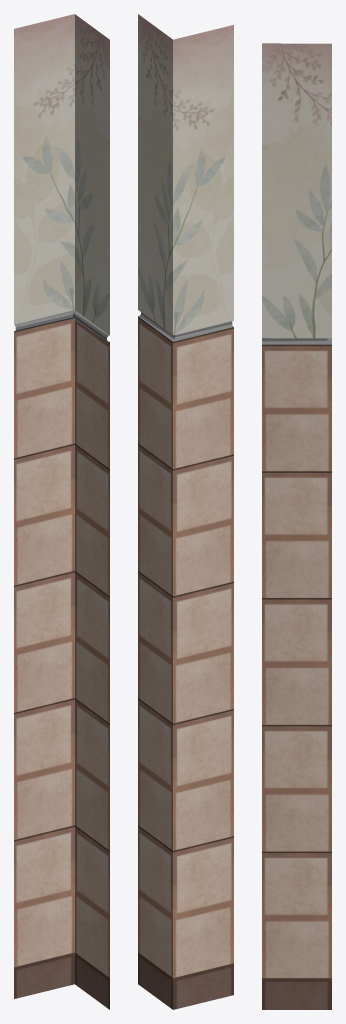
Rendered from MT_BR_ClosedCorner_Small.fbx.
The picture shows the model from 3 angles, left to right: view 1: azimuth 30°, elevation 25°; view 2: azimuth 210°, elevation 25°; view 3: azimuth 270°, elevation 25°; orthographic projection.
Visible parts, largest first — view 1: MT_BR_ClosedCorner_Small; view 2: MT_BR_ClosedCorner_Small; view 3: MT_BR_ClosedCorner_Small.
Boxes of the visible parts, left/top/right/bottom form: MT_BR_ClosedCorner_Small: left=14, top=14, right=109, bottom=1009; MT_BR_ClosedCorner_Small: left=138, top=14, right=233, bottom=1009; MT_BR_ClosedCorner_Small: left=262, top=43, right=331, bottom=1009.
Bounding box in the file's own units: 19.98 × 305 × 19.98.
